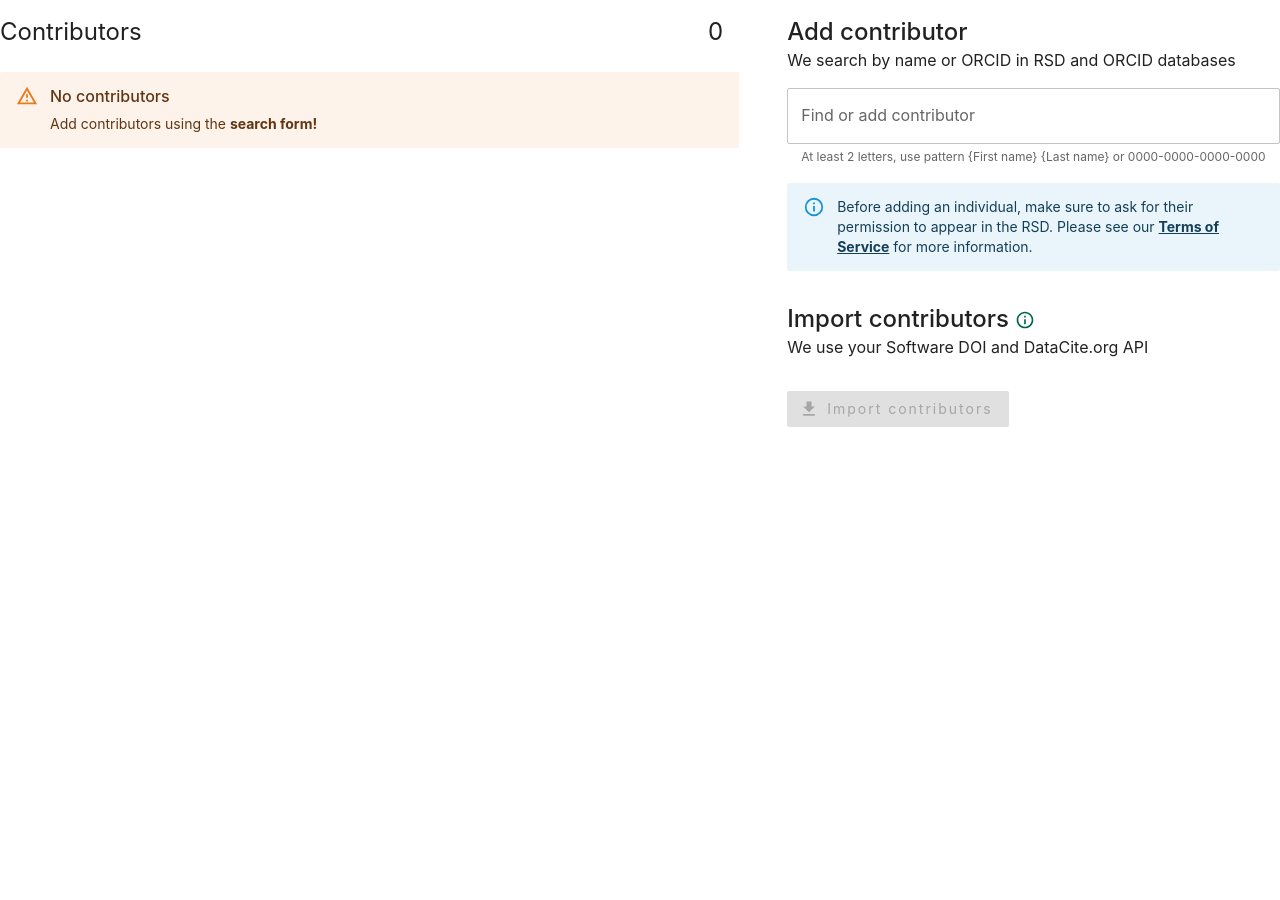
Test: frontend/components/software/edit/contributors/index.tsx › can add new contributor
Type "Dusan Mijatovic" into the dropdown labelled "Find or add contributor".
click(1034, 116); type("Dusan Mijatovic")  # box [796,97,1271,135]
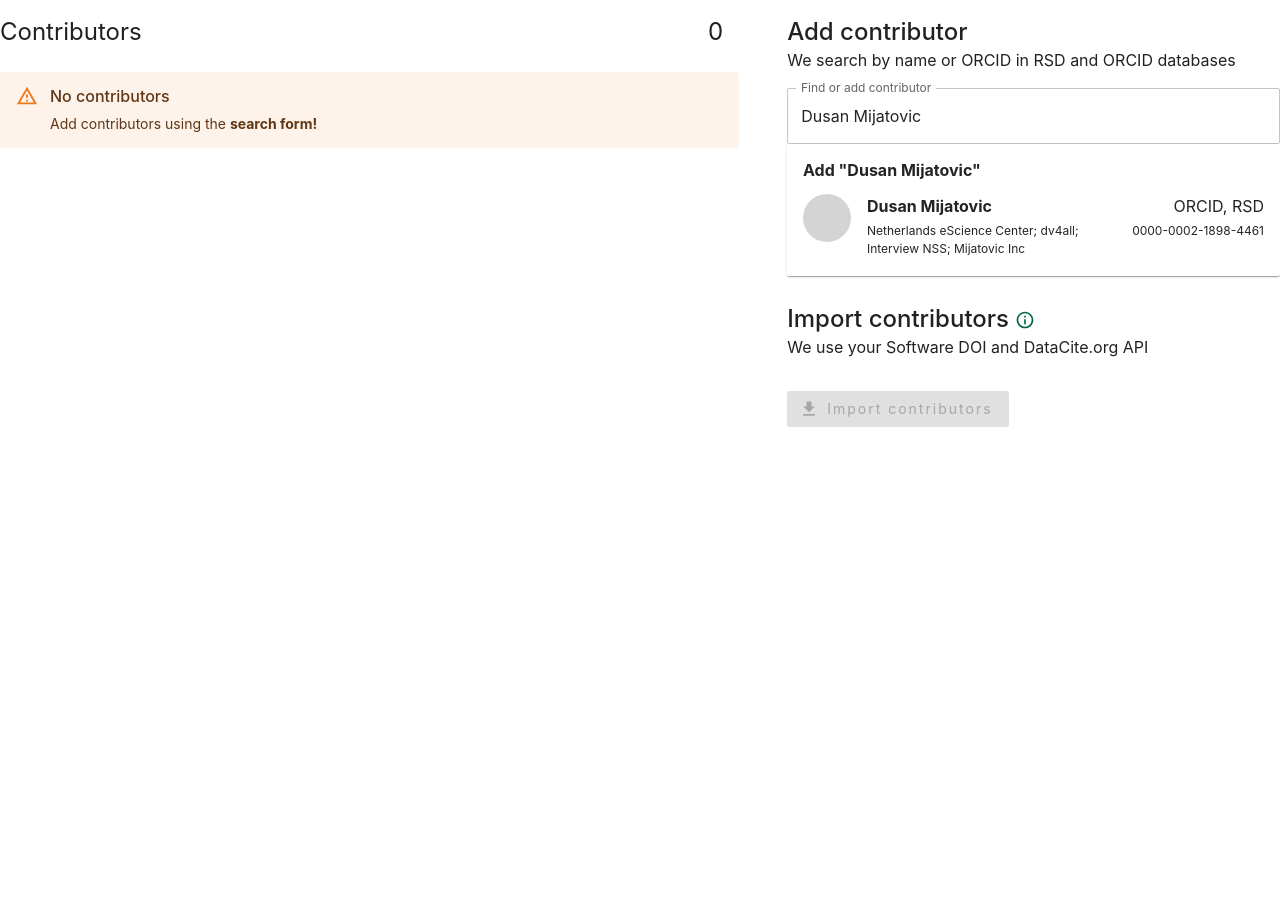
expect the number of options is 2: met
Click the option "Add \"Dusan Mijatovic\"".
click(892, 170)  # box [803,160,981,180]
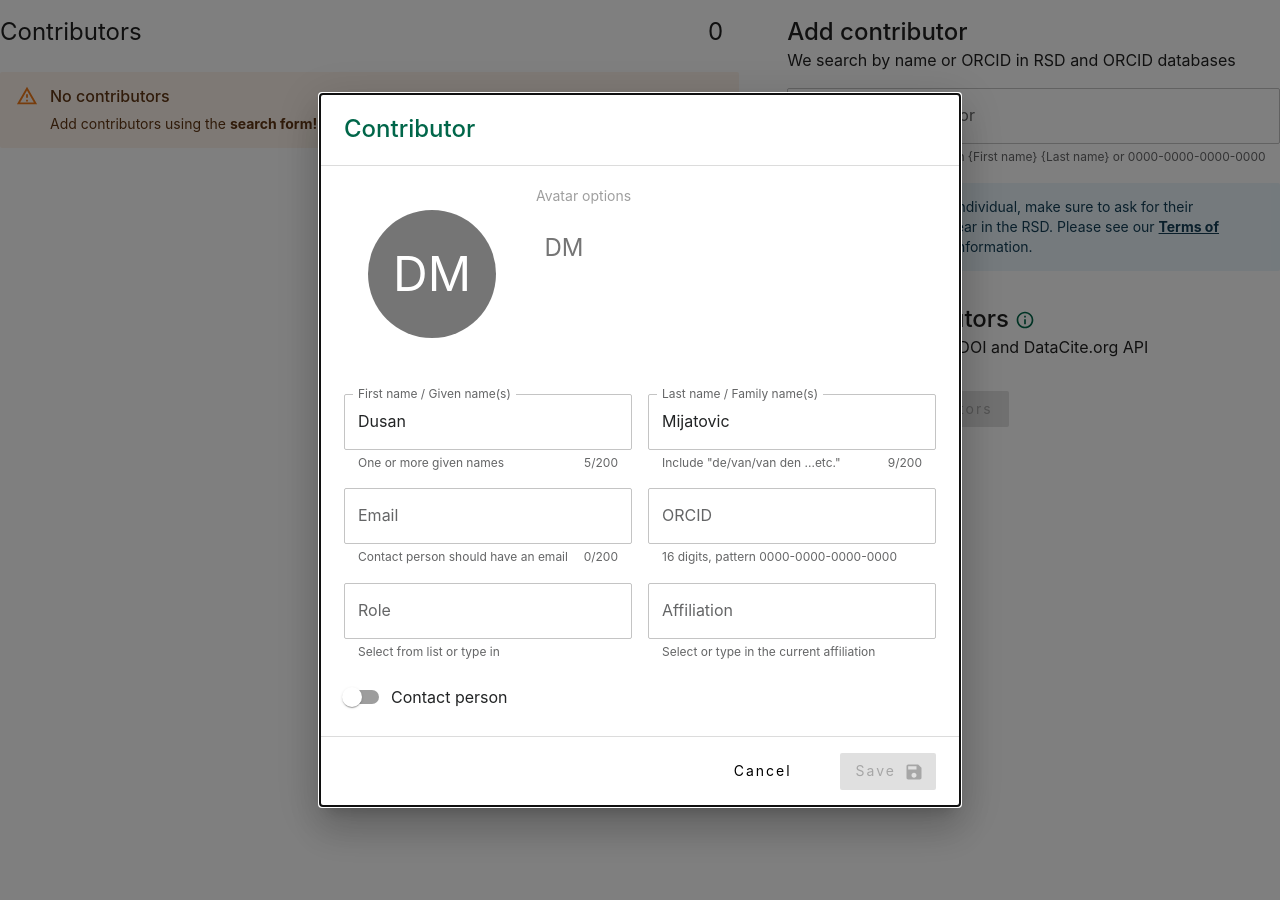
expect the field labelled "First name / Given name(s)" holds "Dusan": met, box [344,394,632,450]
expect the field labelled "Last name / Family name(s)" holds "Mijatovic": met, box [648,394,936,450]
Type "test1@email.com" into the field labelled "Email".
click(488, 516); type("test1@email.com")  # box [344,488,632,544]
Type "Developer" into the dropdown labelled "Role".
click(488, 611); type("Developer")  # box [353,592,623,630]
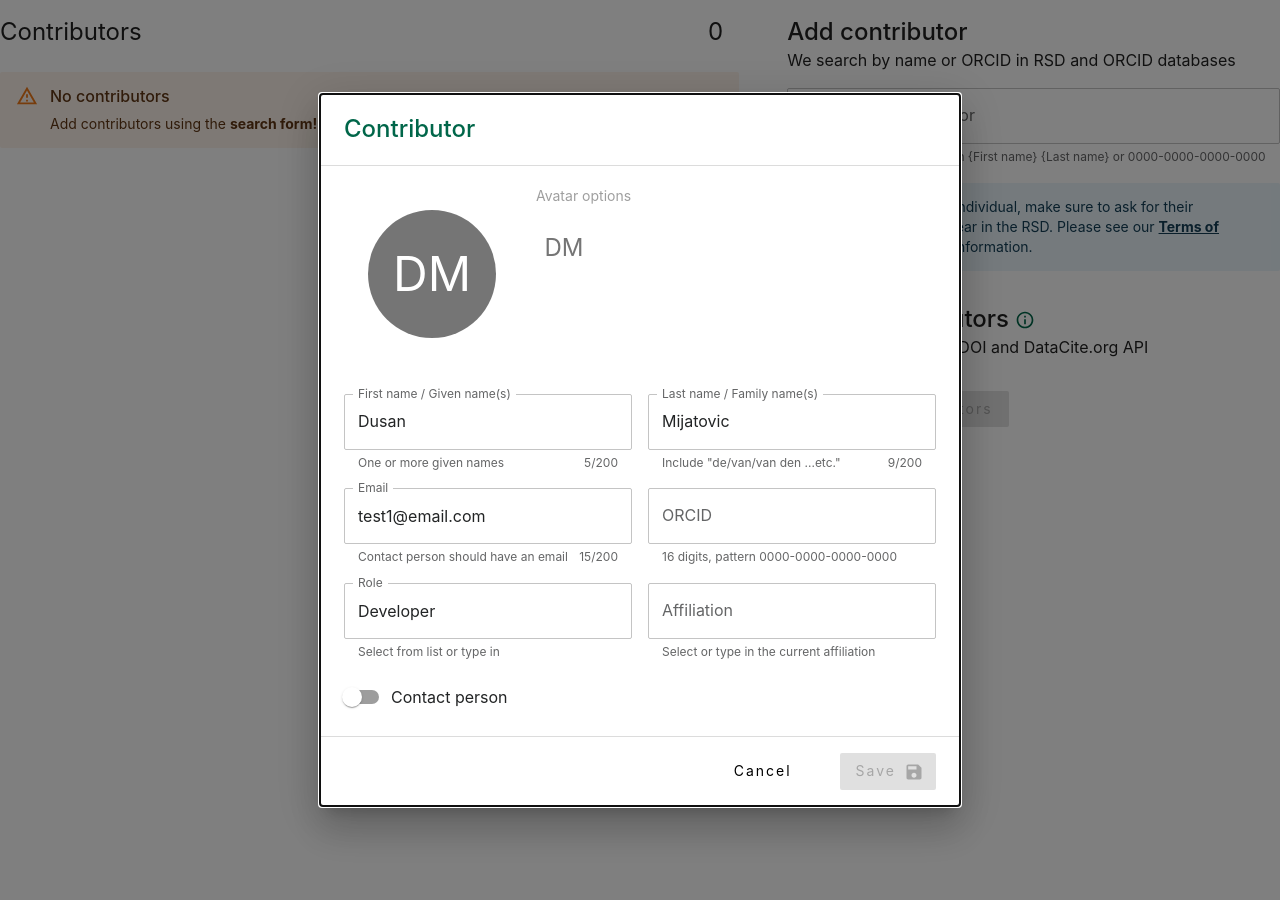
Type "No name company" into the dropdown labelled "Affiliation".
click(792, 611); type("No name company")  # box [657,592,927,630]
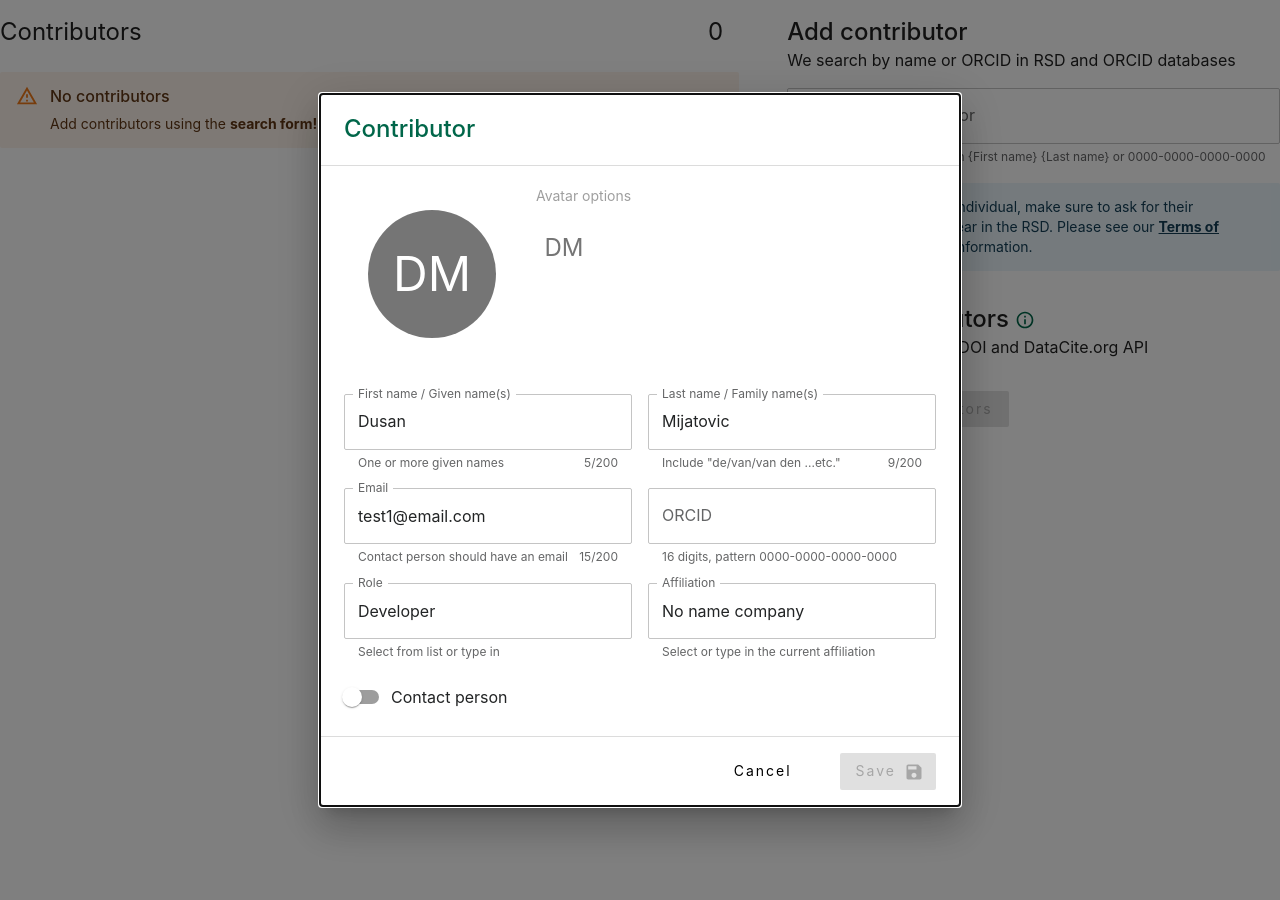
Click the switch labelled "Contact person".
click(425, 697)  # box [342,687,508,707]
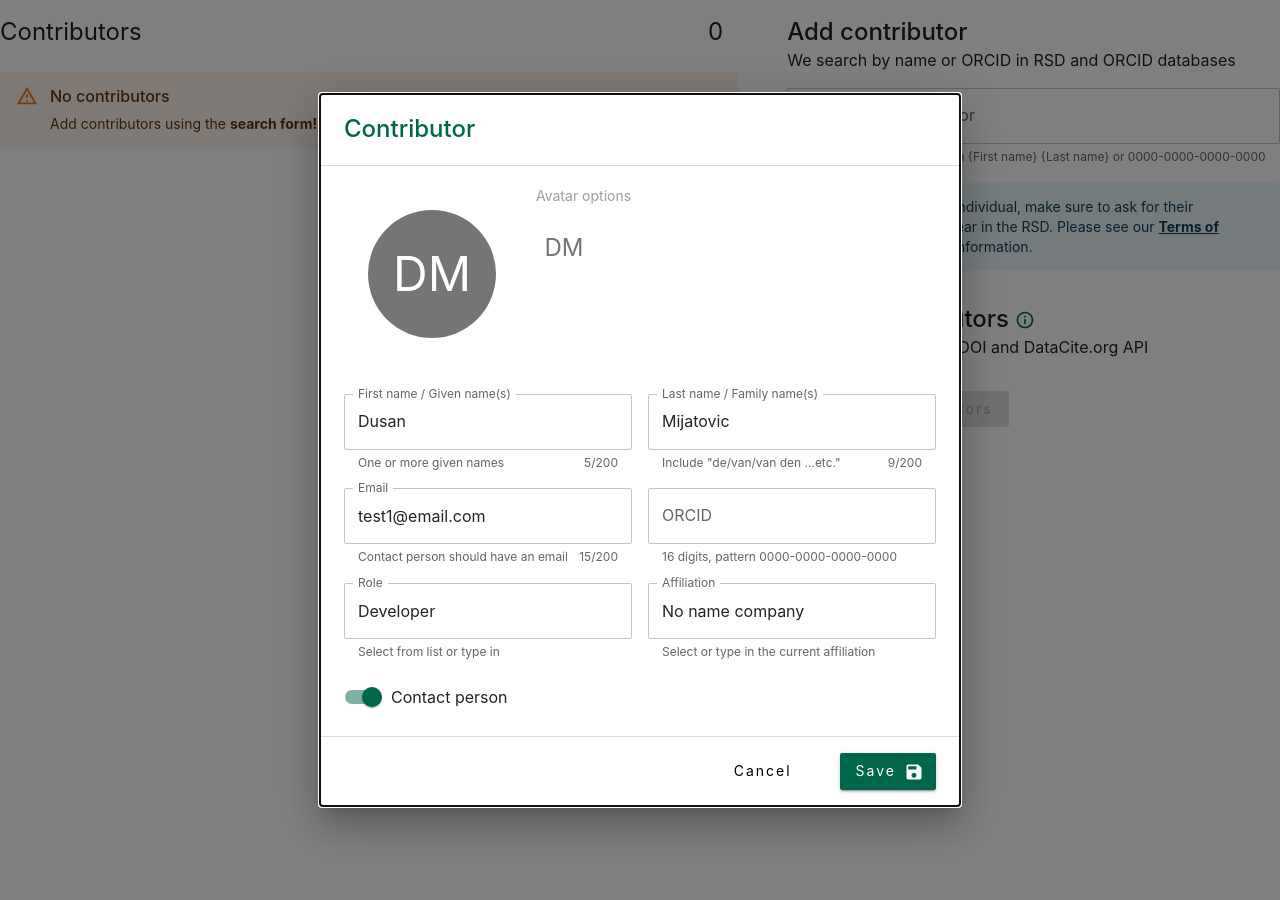
expect the button "Save" is enabled: met
Click the button "Save".
click(888, 772)  # box [840,753,936,790]
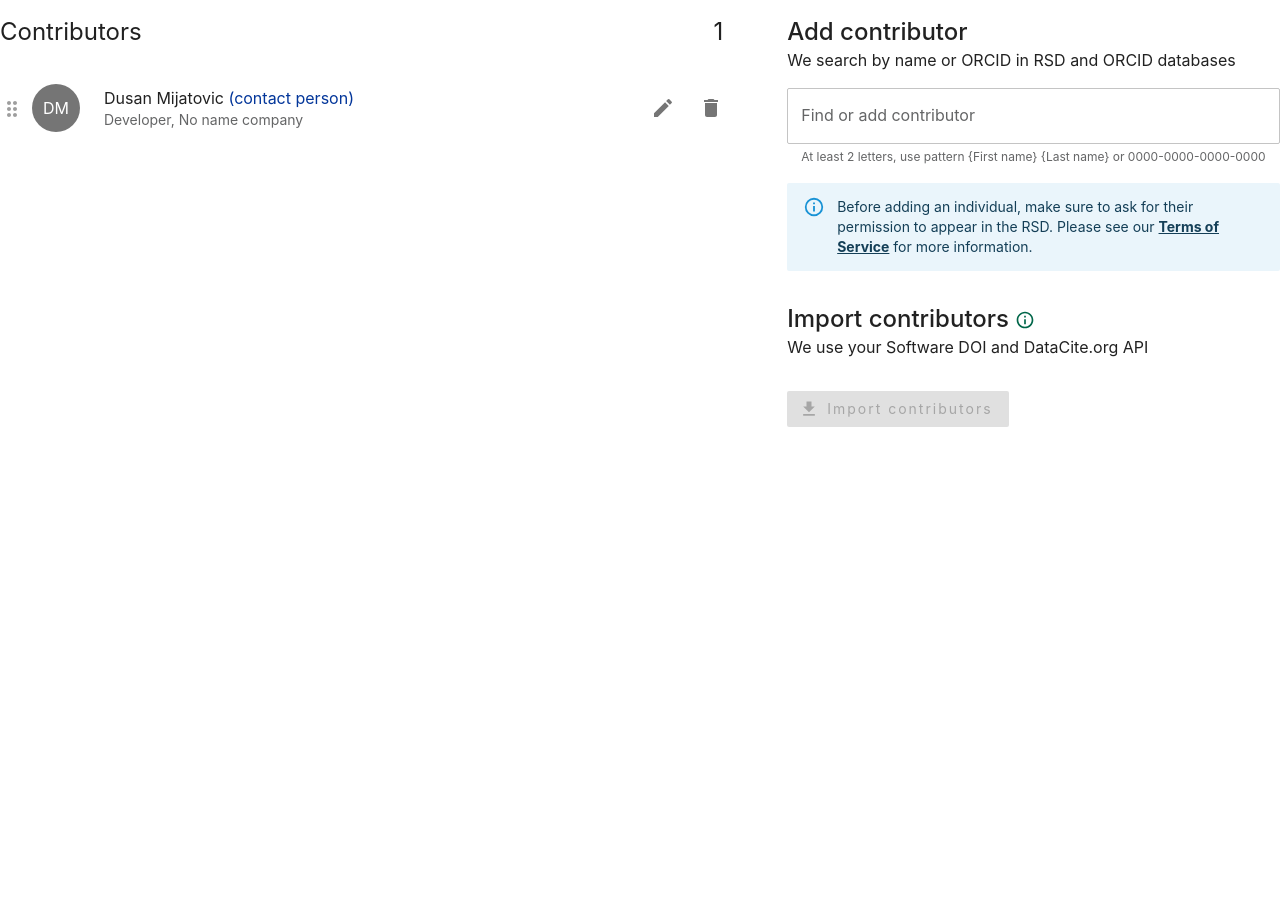
expect the number of buttons with test id "contributor-item" is 1: met, box [0,72,739,144]
expect the button with test id "contributor-item" shows "Mijatovic": met, box [0,72,739,144]
